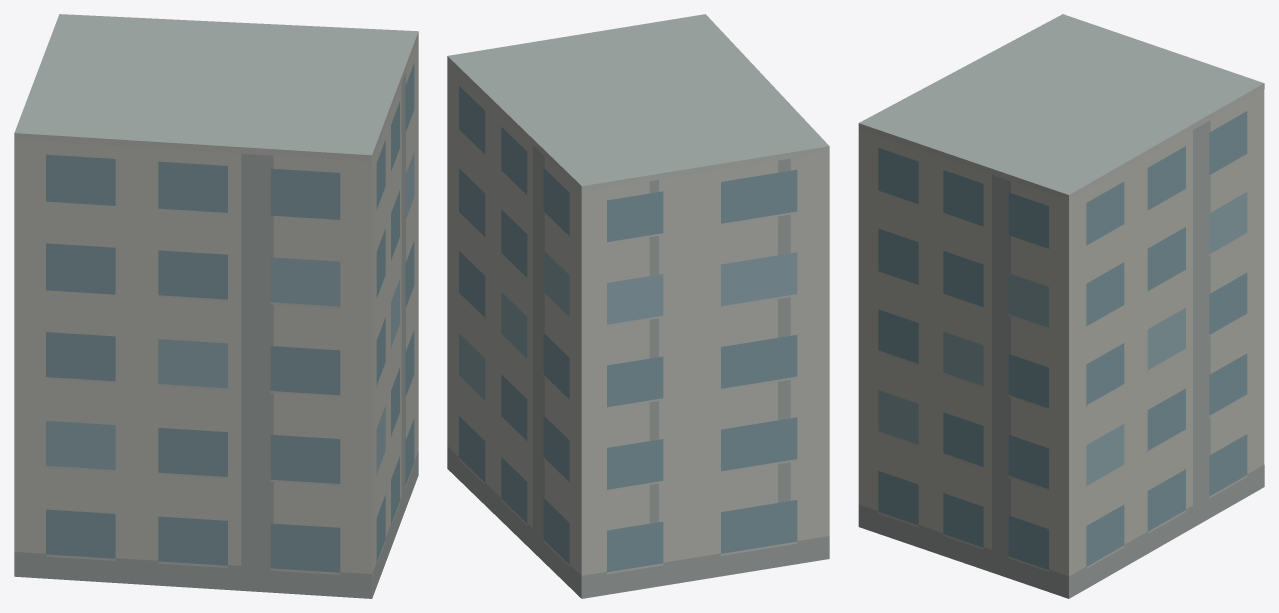
Rendered from survey-upis-33011518.glb.
3 views of the same model, side by side, from view 1: azimuth 30°, elevation 25°; view 2: azimuth 150°, elevation 25°; view 3: azimuth 270°, elevation 25° (orthographic). The views are drawn at different scales.
Visible parts, largest first — view 1: survey-upis-33011518.tmp; view 2: survey-upis-33011518.tmp; view 3: survey-upis-33011518.tmp.
Part boxes in pixels (x1=…): survey-upis-33011518.tmp: x1=14, y1=14, x2=418, y2=598; survey-upis-33011518.tmp: x1=447, y1=14, x2=829, y2=598; survey-upis-33011518.tmp: x1=858, y1=14, x2=1264, y2=598.
Size of the model in its own units: 15.74 by 16.36 by 14.91.
